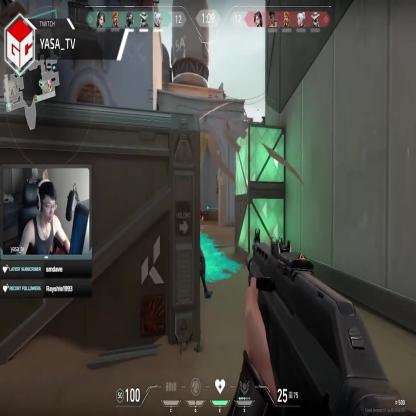enemy: (184, 198, 213, 300)
enemy_head: (190, 197, 202, 214)
